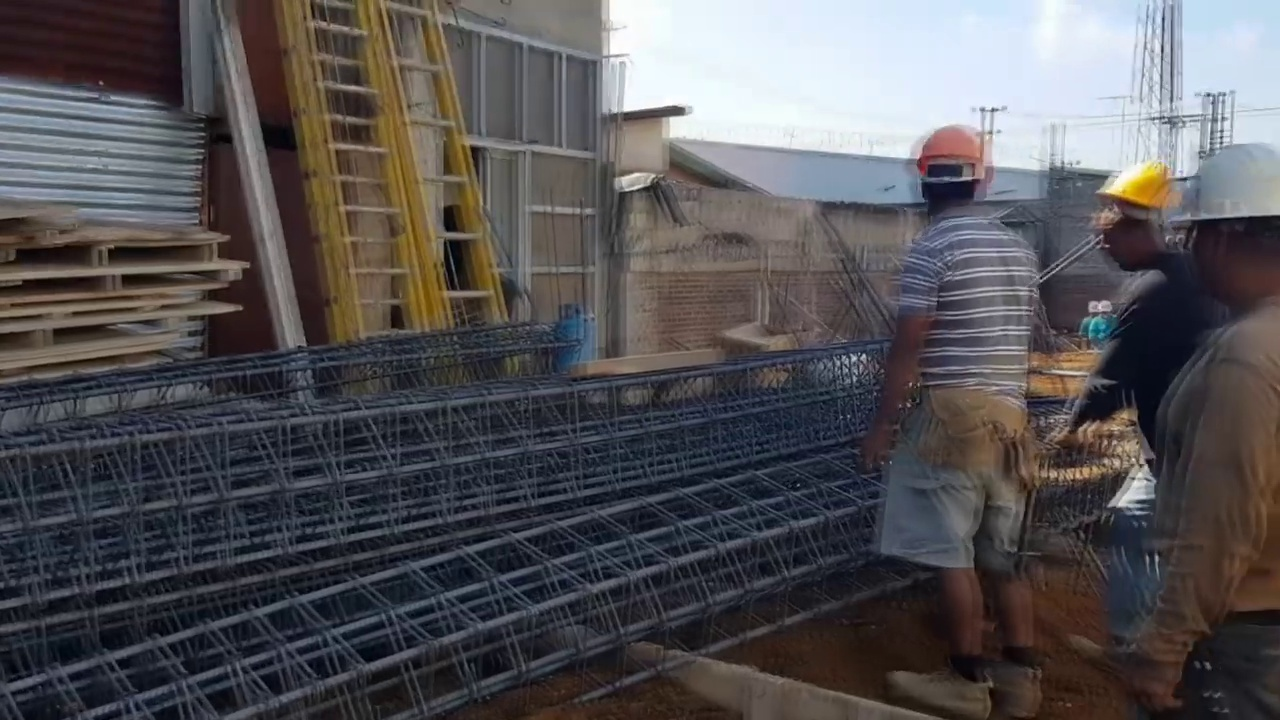helmet: (1182, 147, 1280, 226), (912, 122, 991, 186), (1099, 158, 1186, 215), (1097, 301, 1112, 312), (1087, 301, 1100, 313)
helmet-on: (1178, 140, 1280, 316), (1094, 158, 1189, 275), (910, 116, 990, 219), (1097, 300, 1113, 317), (1088, 301, 1101, 319)
person: (854, 119, 1040, 592), (1143, 140, 1280, 590), (1053, 158, 1197, 469), (1089, 300, 1118, 349), (1079, 301, 1101, 336)
